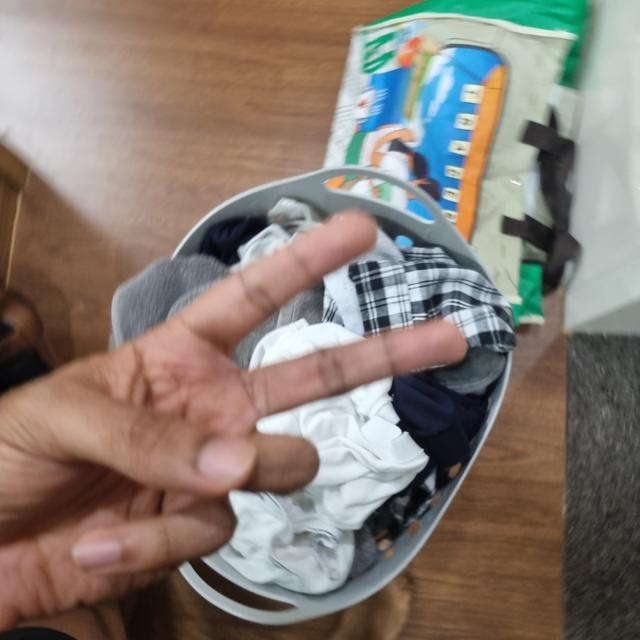Scissors: (0, 217, 461, 634)
